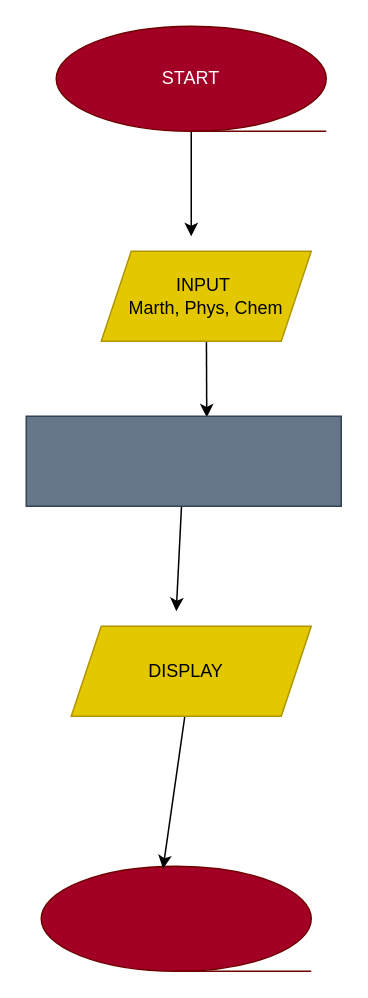
Some shapes in this 368 by 998 pixel diagram are drawn without their labels. Here are the shapes that lost their labels. From the top down, the centre of each, then its label:
At point 183,460: "Average = (Math + Phys + Chem) / 3".
At point 175,918: "END".
